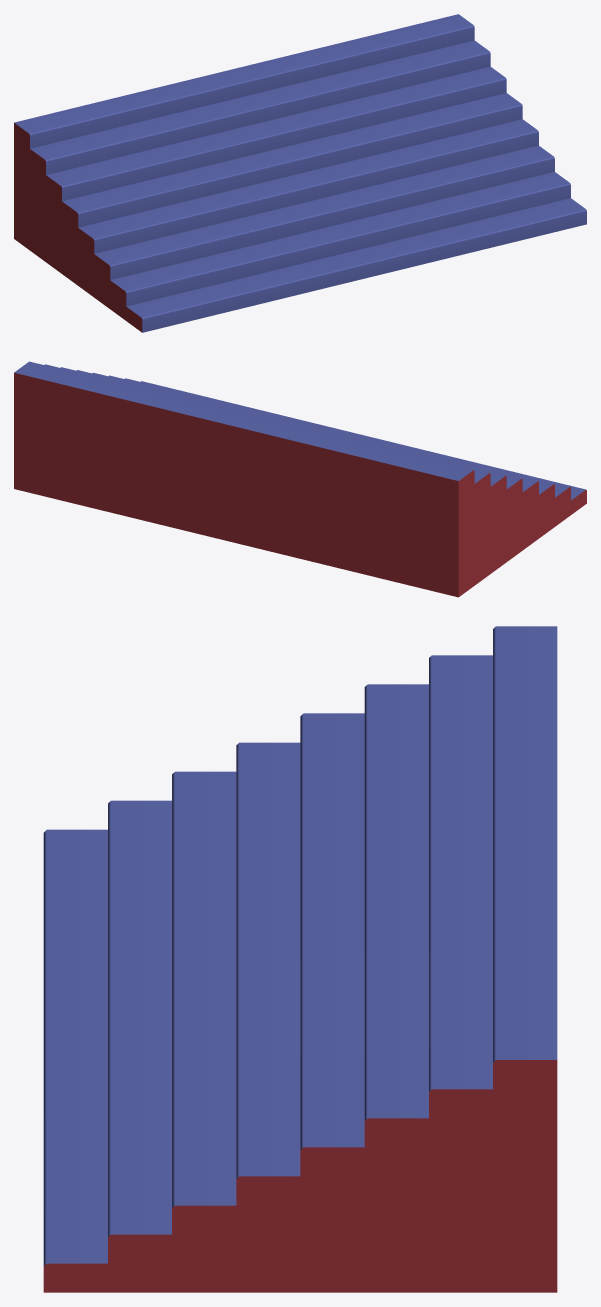
File: SM_Stair_Middle_2x4_01.fbx
3 views of the same model, one above another, from view 1: azimuth 30°, elevation 25°; view 2: azimuth 150°, elevation 25°; view 3: azimuth 270°, elevation 25° (orthographic). The views are drawn at different scales.
Parts seen in each view (by area): view 1: SM_Stair_Middle_2x4_01; view 2: SM_Stair_Middle_2x4_01; view 3: SM_Stair_Middle_2x4_01.
Part boxes in pixels (x1,y1,x2,y2): SM_Stair_Middle_2x4_01: [14, 14, 586, 332]; SM_Stair_Middle_2x4_01: [14, 361, 586, 597]; SM_Stair_Middle_2x4_01: [43, 626, 557, 1292].
Bounding box in the file's own units: 400 × 100 × 200.
